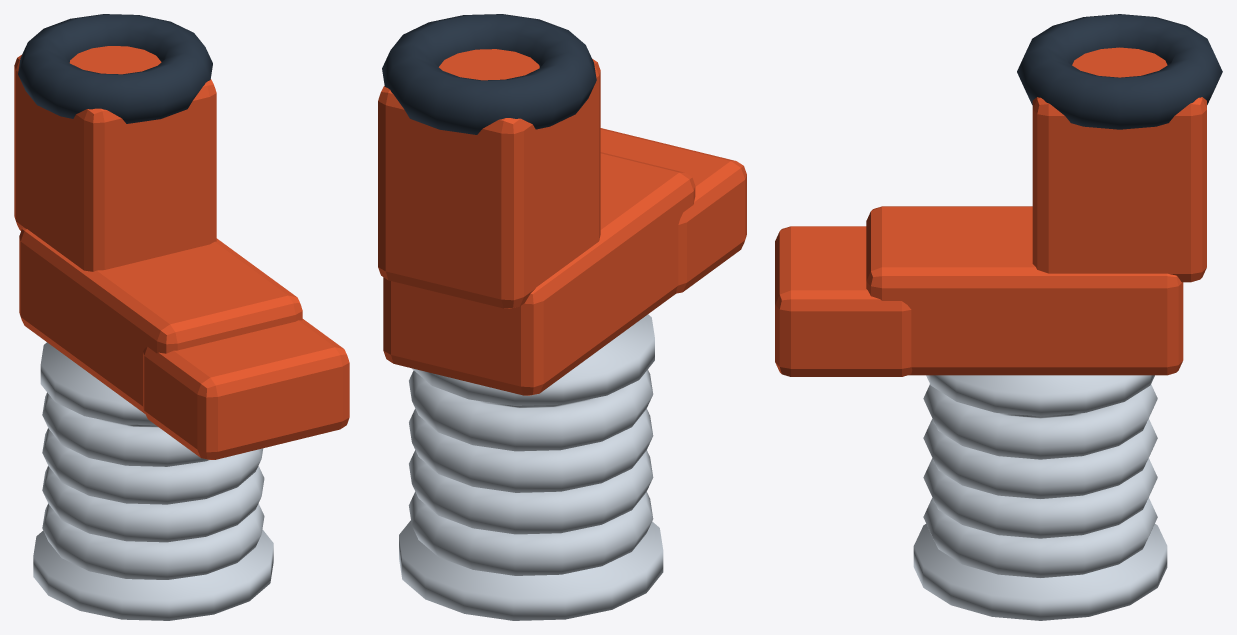
Rendered from SpringBoot.glb.
3 views of the same model, side by side, from view 1: azimuth 30°, elevation 25°; view 2: azimuth 150°, elevation 25°; view 3: azimuth 270°, elevation 25° (orthographic). The views are drawn at different scales.
Visible parts, largest first — view 1: SpringBoot; view 2: SpringBoot; view 3: SpringBoot.
Boxes of the visible parts, bbox=[...] form: SpringBoot: bbox=[14, 14, 349, 620]; SpringBoot: bbox=[378, 14, 746, 620]; SpringBoot: bbox=[775, 14, 1222, 620].
Bounding box in the file's own units: 0.32 × 0.725 × 0.565.
